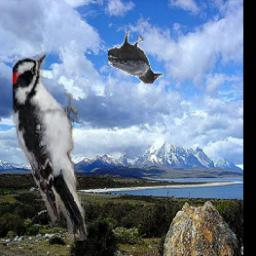Crow: (107, 31, 163, 84)
Woodpecker: (13, 52, 89, 241)
